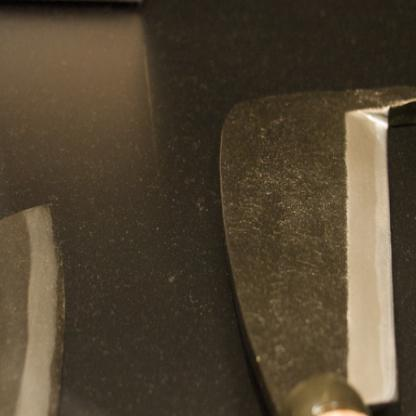knife: (217, 92, 415, 415)
